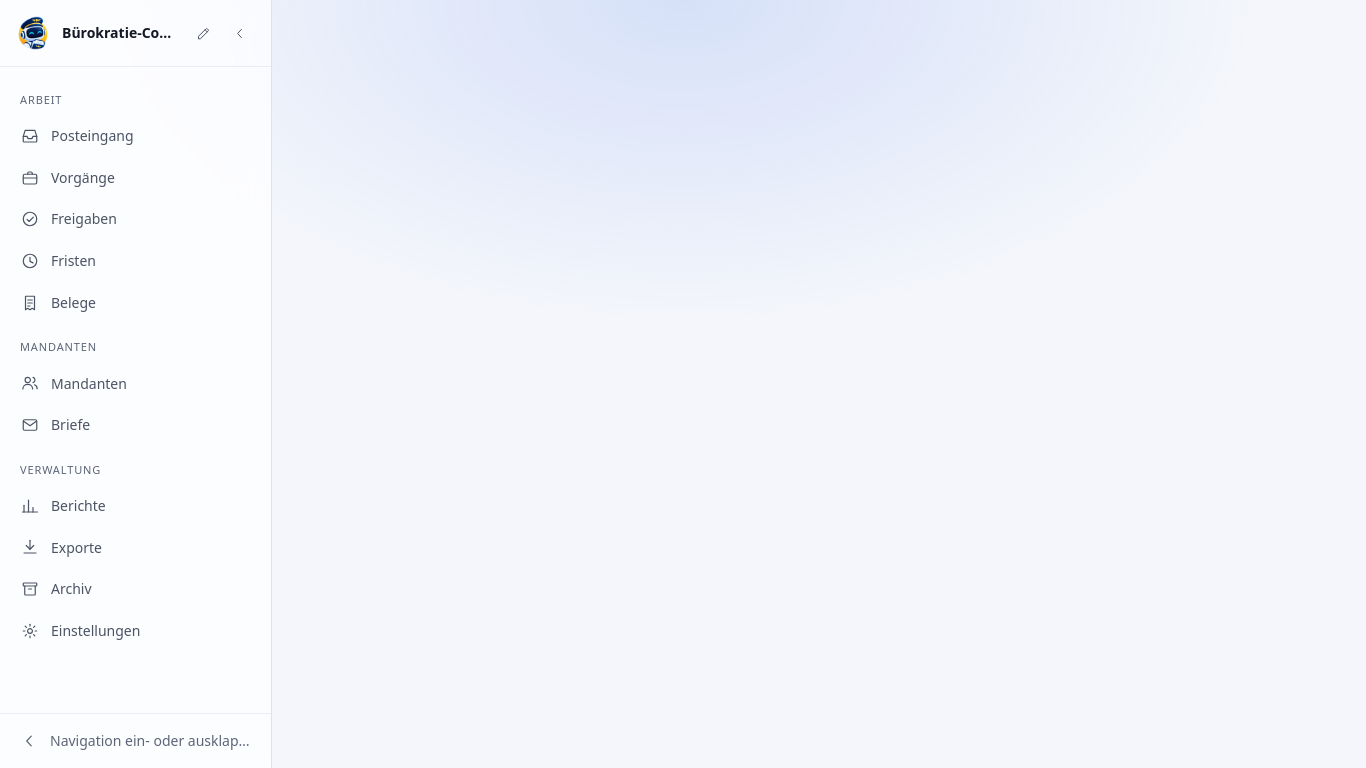
Test: personal sidebar › rolls the menu back and says so when the server refuses the change
Check: the link "Posteingang" is shown, box [21,126,134,145]
Click the button named "Anpassen": [203, 33] box [187,17,219,49]
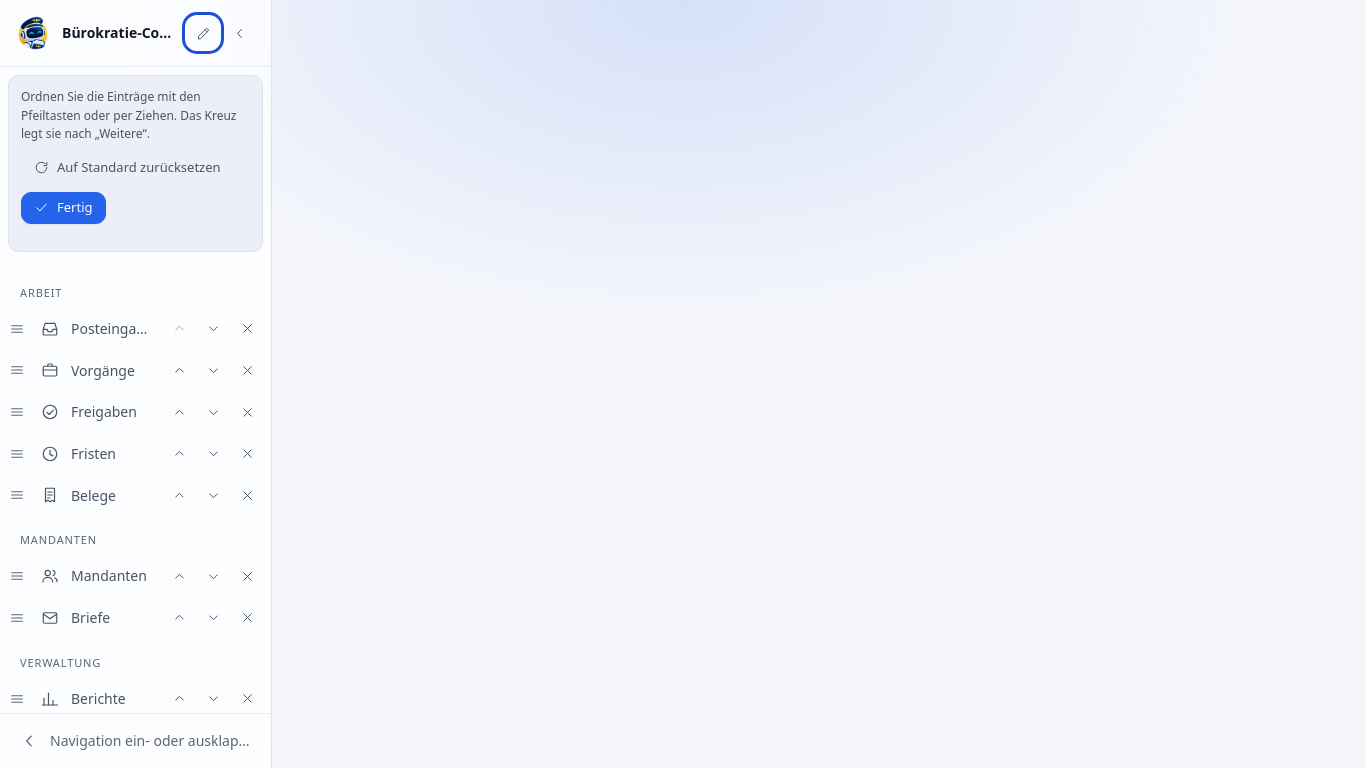
Click the button named "Posteingang ausblenden": [247, 329] box [231,313,263,345]
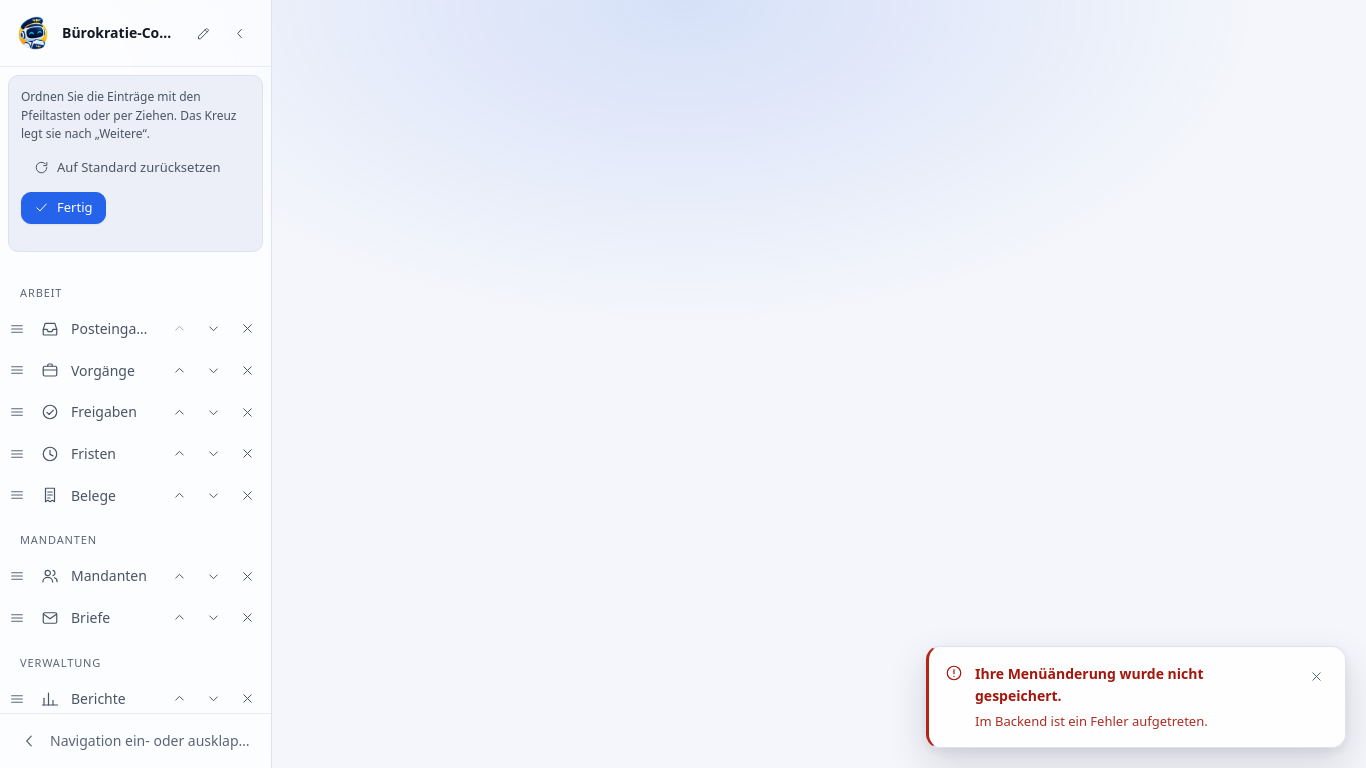
Check: the link "Posteingang" is shown, box [41,319,154,338]
Check: the text "Ihre Menüänderung wurde nicht gespeichert." is shown, box [975,664,1204,705]
